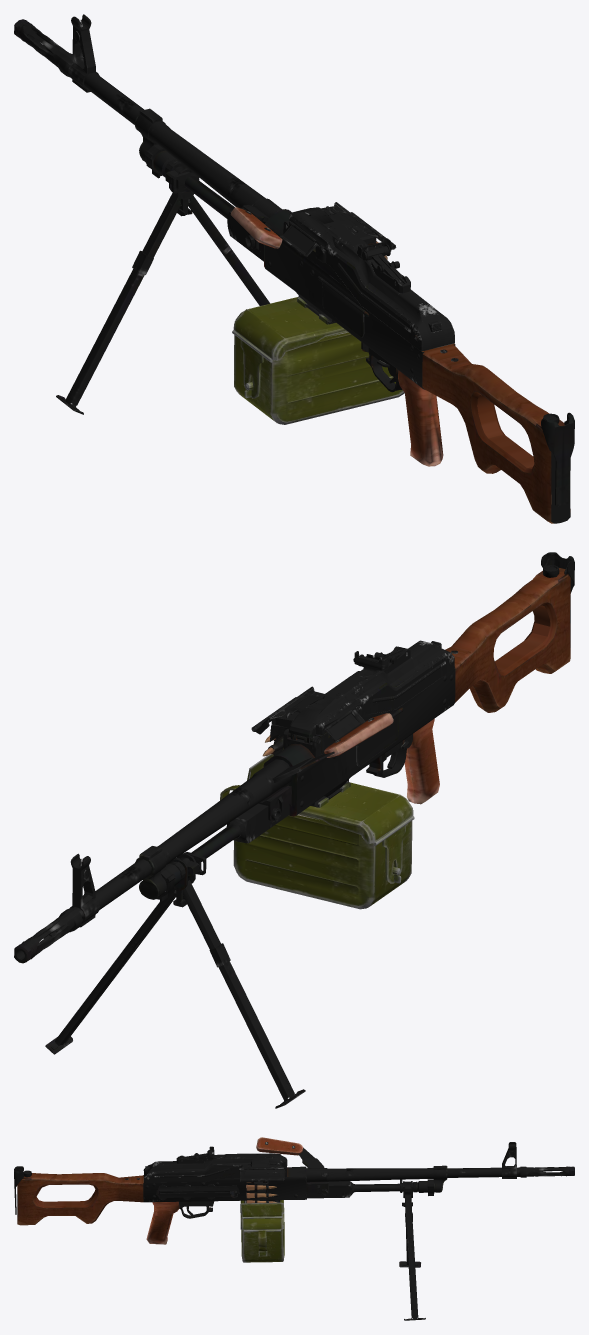
Rendered from pkm_lod.glb.
3 views of the same model, one above another, from view 1: azimuth 30°, elevation 25°; view 2: azimuth 150°, elevation 25°; view 3: azimuth 270°, elevation 25° (orthographic). The views are drawn at different scales.
Visible parts, largest first — view 1: pkm_body, box, cover; view 2: pkm_body, box, cover; view 3: pkm_body, box, cover.
Part boxes in pixels (bbox=[...]): pkm_body: bbox=[14, 14, 574, 523]; box: bbox=[232, 241, 404, 424]; cover: bbox=[288, 206, 367, 250]; pkm_body: bbox=[14, 552, 574, 1108]; box: bbox=[220, 730, 414, 909]; cover: bbox=[286, 675, 367, 734]; pkm_body: bbox=[14, 1137, 574, 1320]; box: bbox=[240, 1181, 284, 1262]; cover: bbox=[224, 1153, 287, 1164].
Bounding box in the file's own units: 0.3007 × 0.3536 × 1.19.
Materials: 1 (1 with a texture image).
